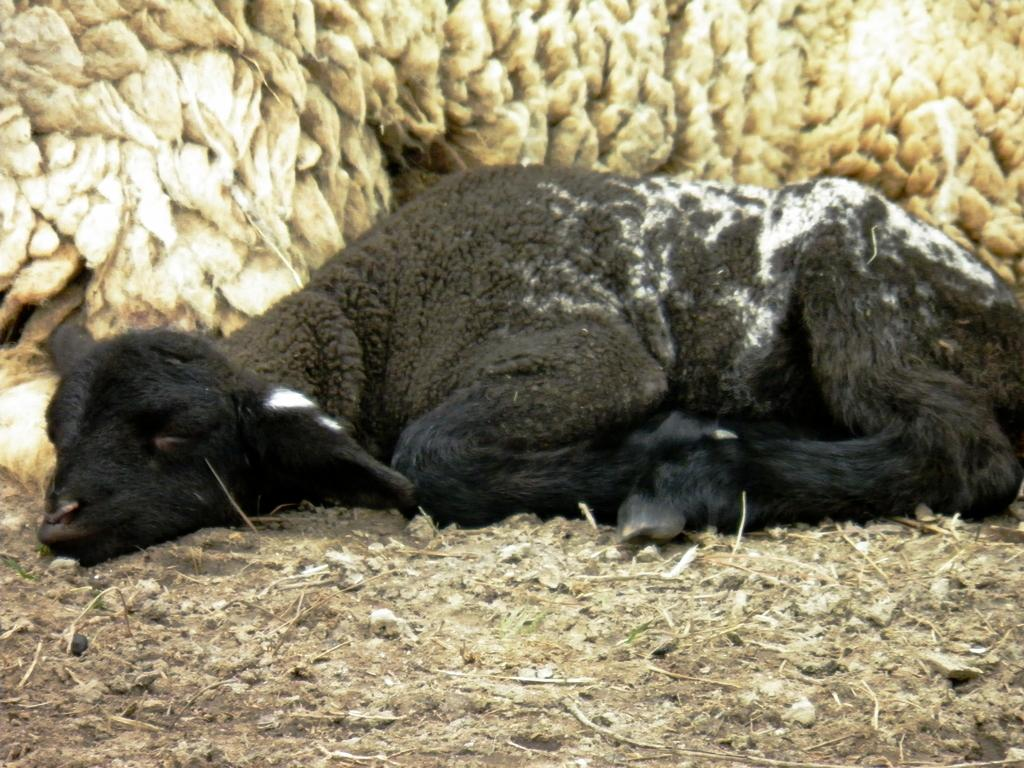Sheep: (40, 164, 1024, 570)
